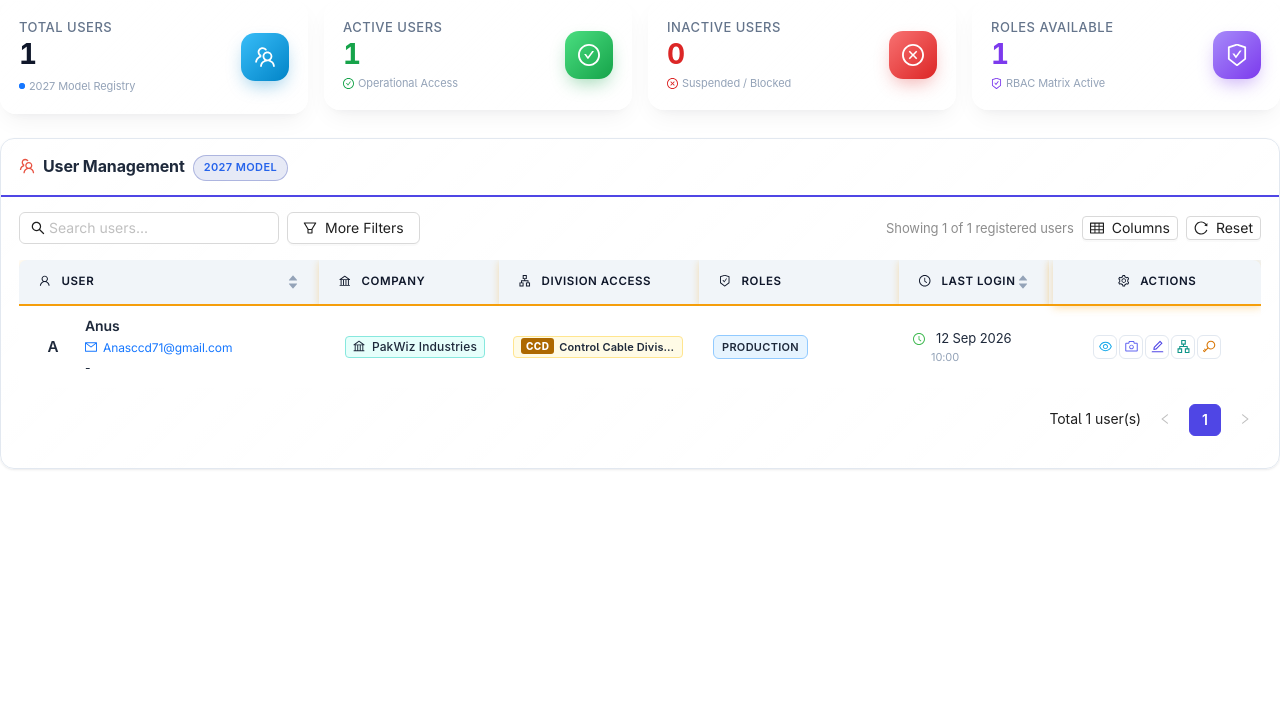
Test: UserManagement — Division Access save workflow (PROMPT #26) › loads the server-authoritative effective access instead of deriving it on the client
Click the button with test id "user-division-access": (1183, 347) [1171,335,1195,359]
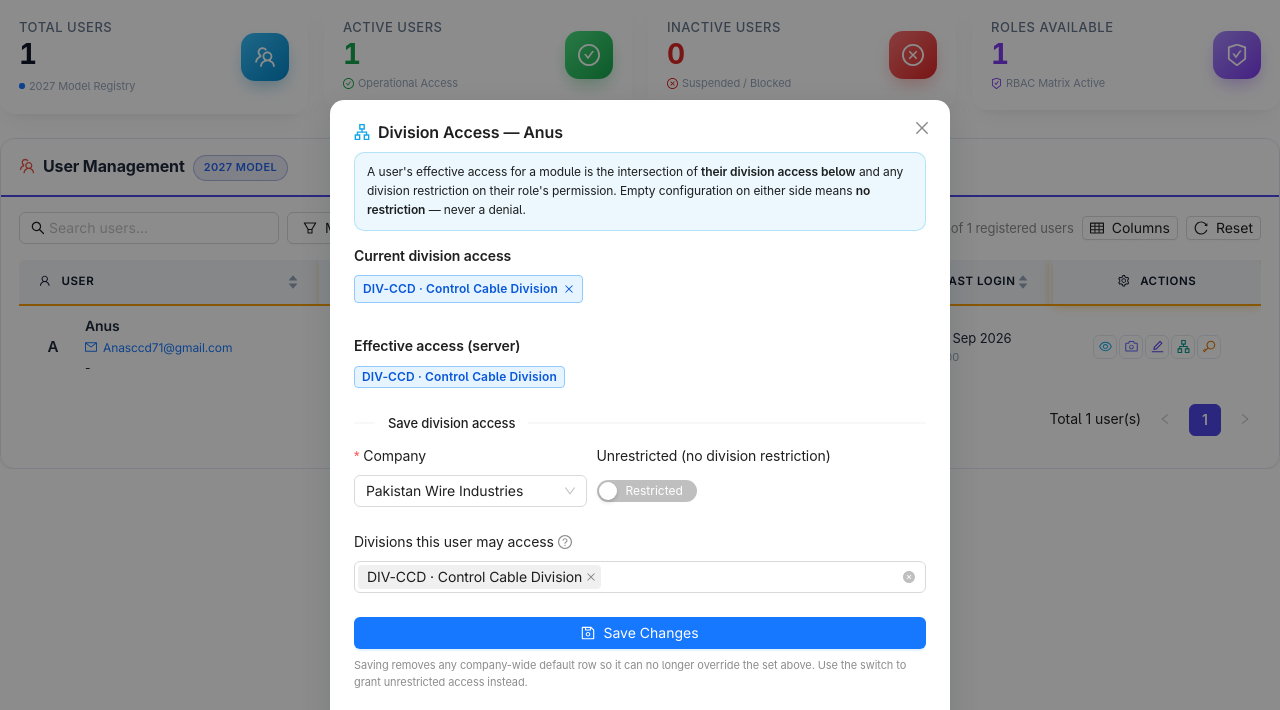
Check: the text "Division Access — Anus" is shown, box [378,122,563,142]
Check: the element with test id "division-access-effective" is shown, box [354,366,565,388]
Check: the text with test id "division-access-effective-item" shows "DIV-CCD", box [362,368,557,384]
